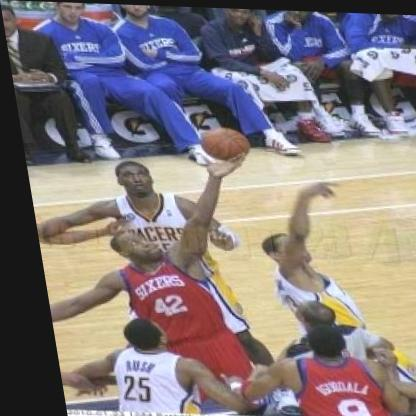basketball: (191, 121, 253, 166)
